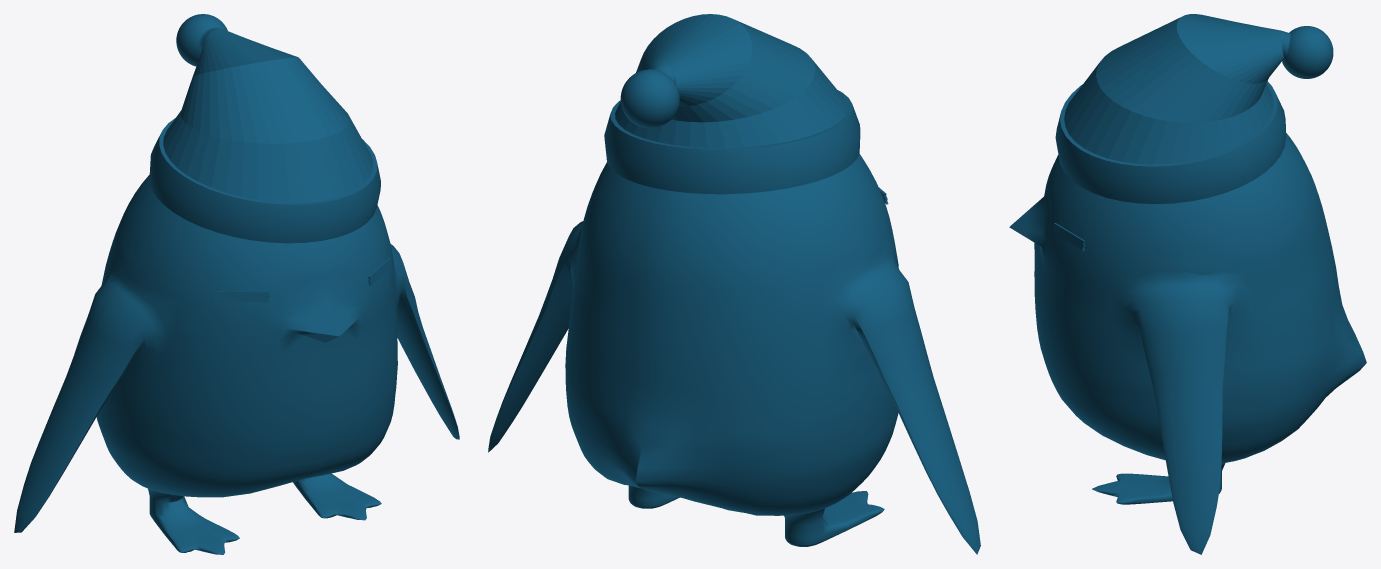
The model's file is penguin_blue_idle_35f.fbx.
The picture shows the model from 3 angles, left to right: view 1: azimuth 30°, elevation 25°; view 2: azimuth 150°, elevation 25°; view 3: azimuth 270°, elevation 25°; orthographic projection. The views are drawn at different scales.
Visible parts, largest first — view 1: ppp_35, bousi, ai; view 2: ppp_35, bousi; view 3: ppp_35, bousi.
Boxes of the visible parts, left/top/right/bottom form: ppp_35: left=14, top=175, right=459, bottom=554; bousi: left=149, top=14, right=380, bottom=243; ai: left=213, top=257, right=391, bottom=302; ppp_35: left=488, top=153, right=980, bottom=554; bousi: left=604, top=14, right=860, bottom=194; ppp_35: left=1009, top=133, right=1366, bottom=554; bousi: left=1055, top=14, right=1333, bottom=204.
Size of the model in its own units: 20.94 by 20.09 by 14.76.
1 material, 1 textured.
